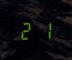one: (36, 19, 52, 39)
two: (19, 20, 35, 40)
